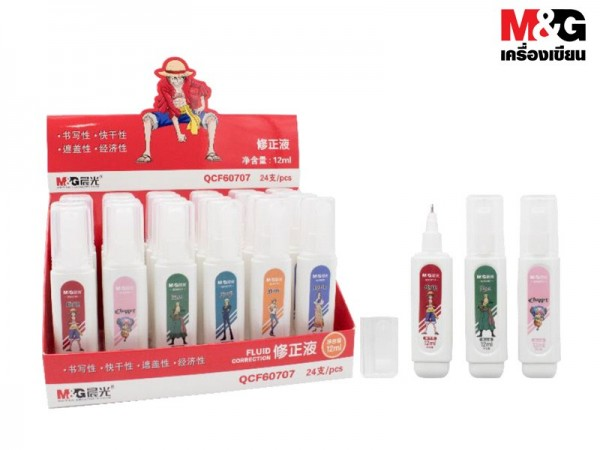Correction_fluid: (511, 190, 566, 381), (460, 187, 510, 382), (408, 202, 455, 382), (47, 200, 100, 352), (152, 200, 200, 346), (294, 190, 338, 336), (103, 201, 145, 351), (205, 193, 244, 343), (250, 195, 291, 337)
